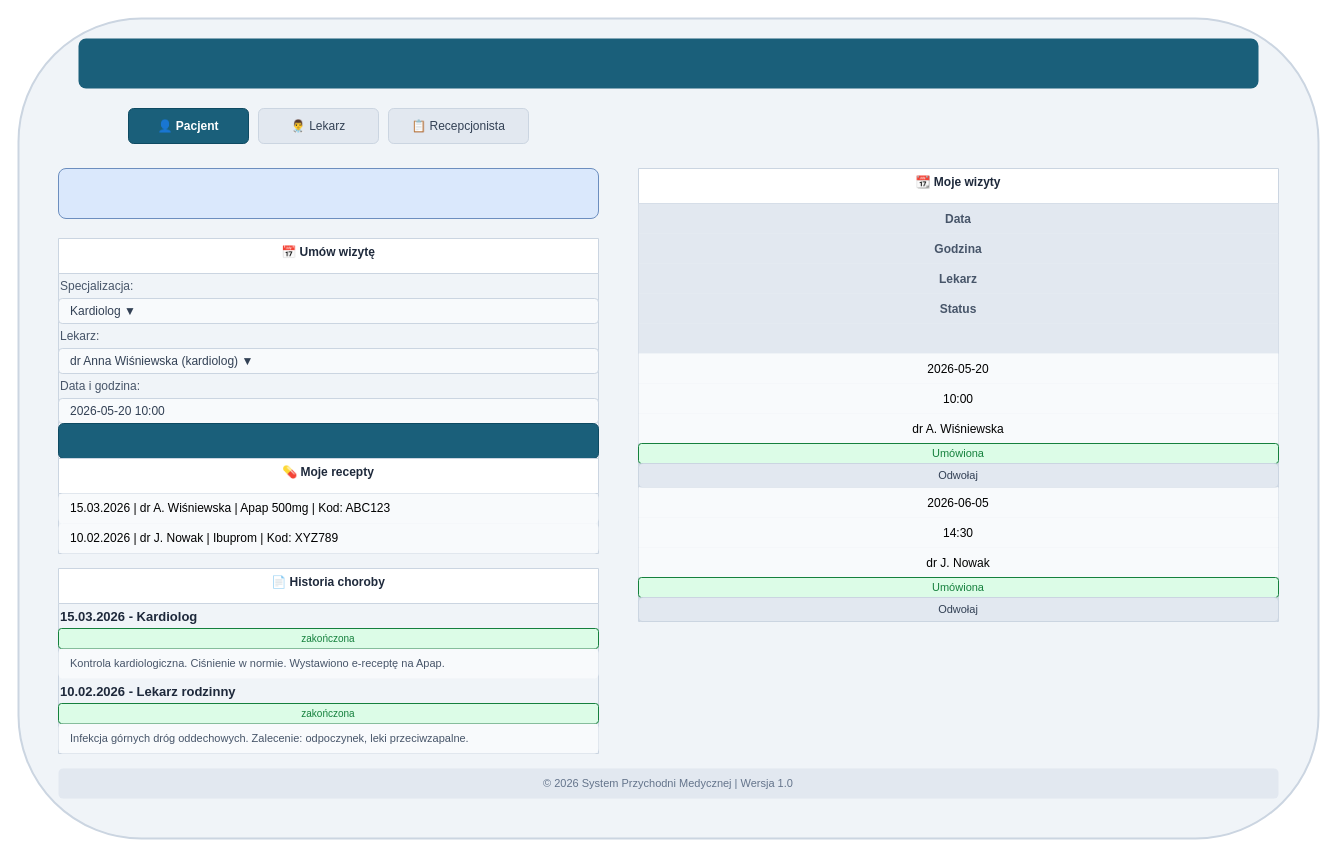
Image size: 1336x856. Some labels were removed from this diagram. The centre of each missing label's shape, as x and y in pixels:
"Witaj, Jan Kowalski Numer karty: KP001 | Ostatnia wizyta: 15.03.2026" belongs at point (328, 193).
"➕ Zarezerwuj wizytę" belongs at point (328, 440).
"🩺 System Przychodni Medycznej" belongs at point (668, 63).
